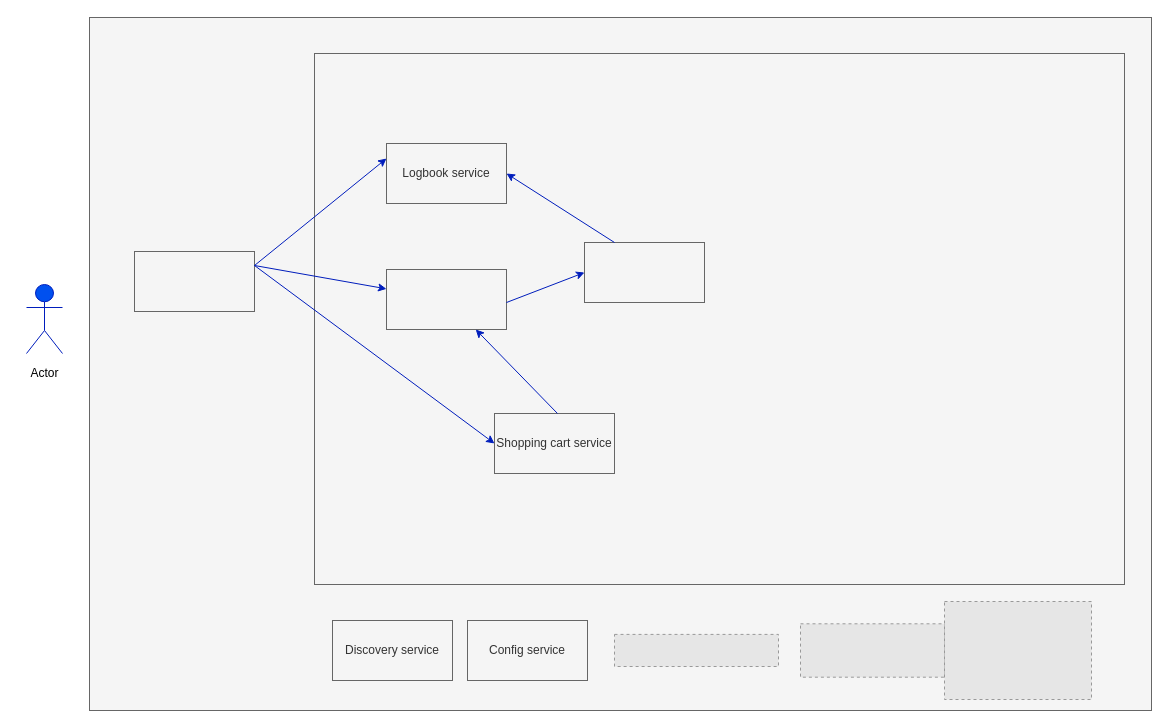
Image size: 1169x728. Some labels were removed from this diagram. Grey dashed boxes stand in for pictures. The shapes that lost their labels are listed below. From the top down, each one's centre as x and y in pixels, then its label:
At pixel 194 281: "Gateway service".
At pixel 644 272: "Messaging service".
At pixel 446 299: "Product catalog service".
